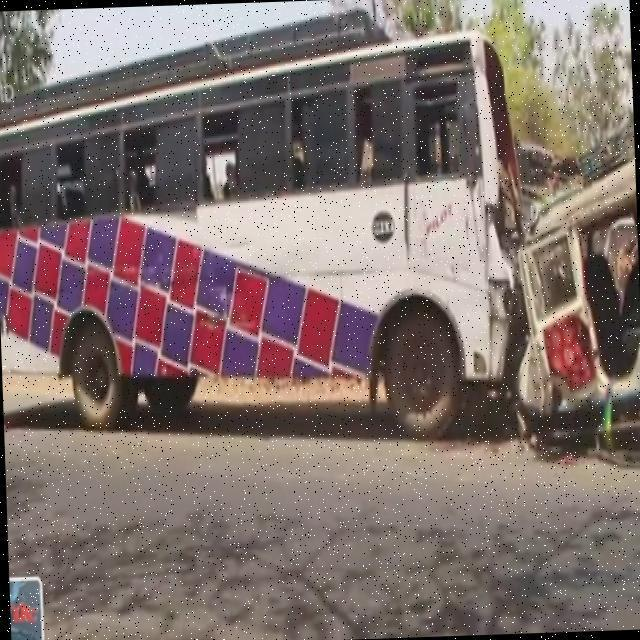accident: (402, 56, 640, 477)
